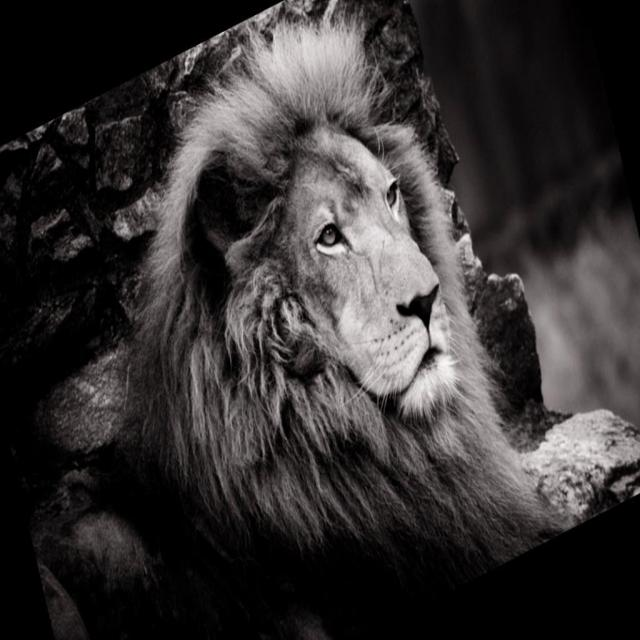Lion: (0, 0, 577, 639)
